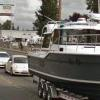Boat: (23, 18, 100, 99)
